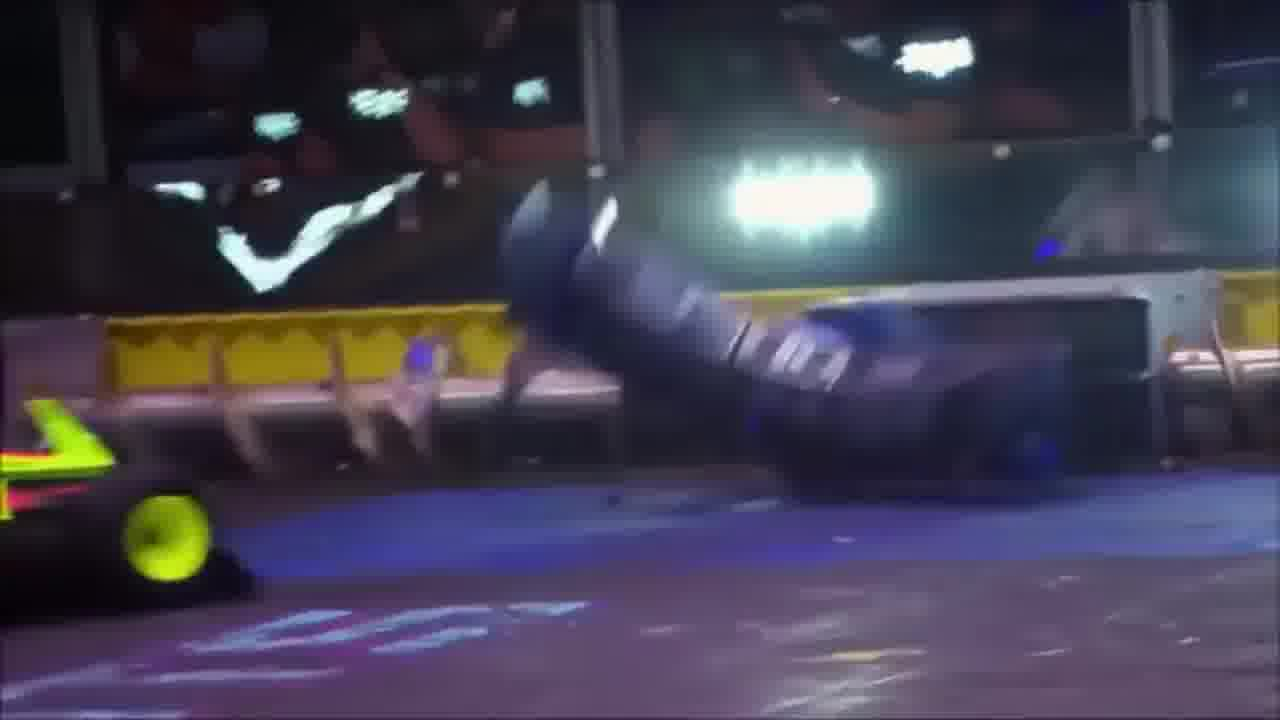combatbot: (501, 187, 1081, 492), (1, 397, 216, 601)
